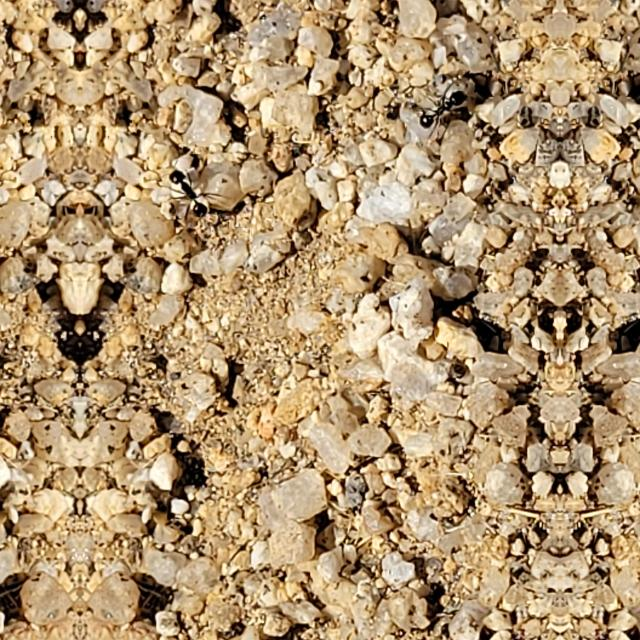Messor: (160, 162, 220, 225), (419, 75, 469, 135)
